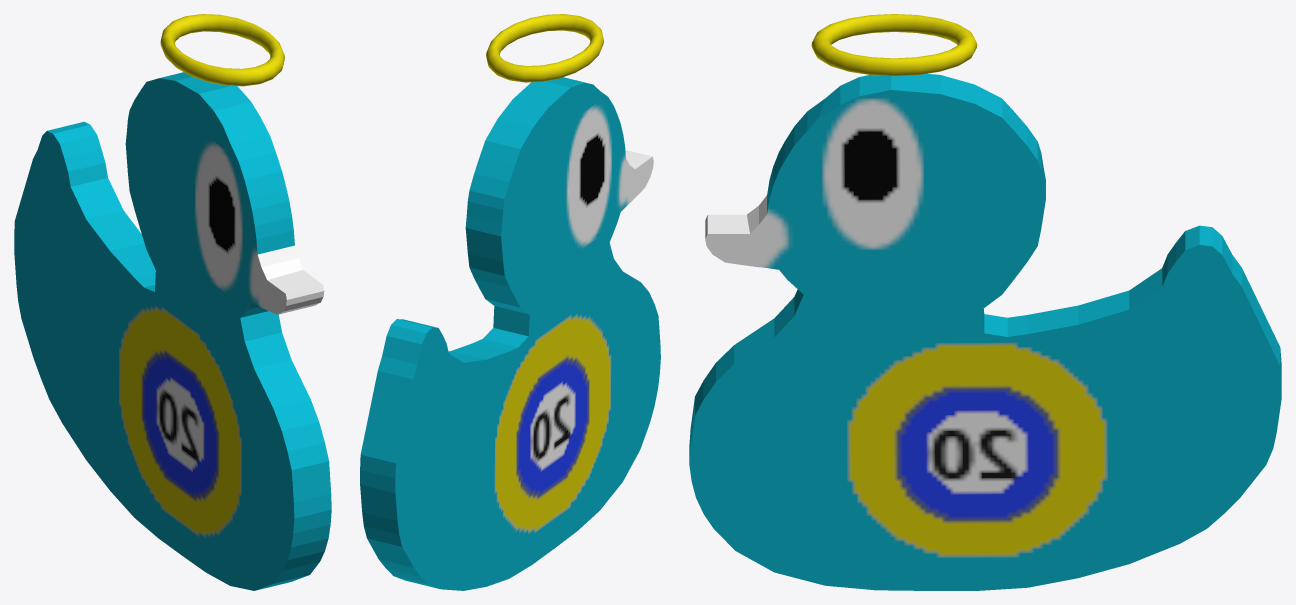
Rendered from gduck.fbx.
3 renders of one model, left to right at view 1: azimuth 30°, elevation 25°; view 2: azimuth 150°, elevation 25°; view 3: azimuth 270°, elevation 25°, orthographic. The views are drawn at different scales.
Visible parts, largest first — view 1: polySurface1.001; view 2: polySurface1.001; view 3: polySurface1.001.
Boxes of the visible parts, x1,y1,x2,y2 form: polySurface1.001: (14, 14, 331, 590); polySurface1.001: (360, 14, 660, 590); polySurface1.001: (689, 14, 1281, 590).
Size of the model in its own units: 1.16 by 5.92 by 5.8.
1 material, 1 textured.
